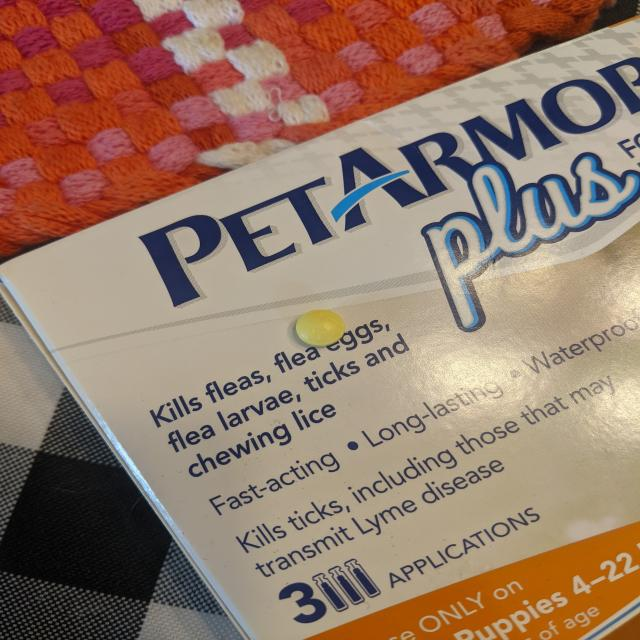non-organic waste: (295, 309, 346, 347)
